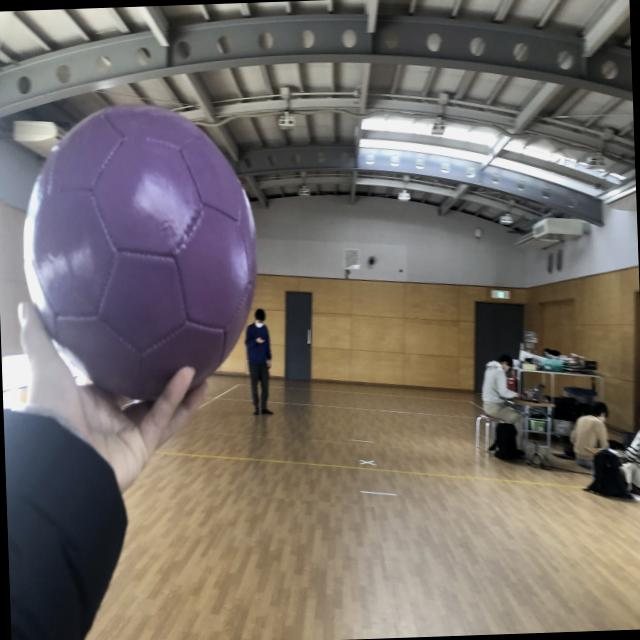purple_ball: (18, 104, 260, 408)
